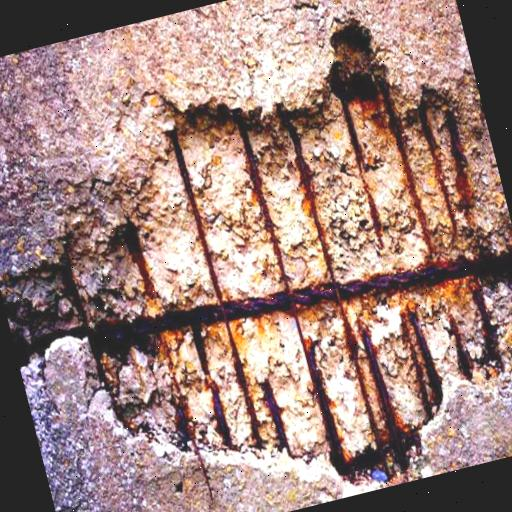spalling: (0, 17, 512, 489)
